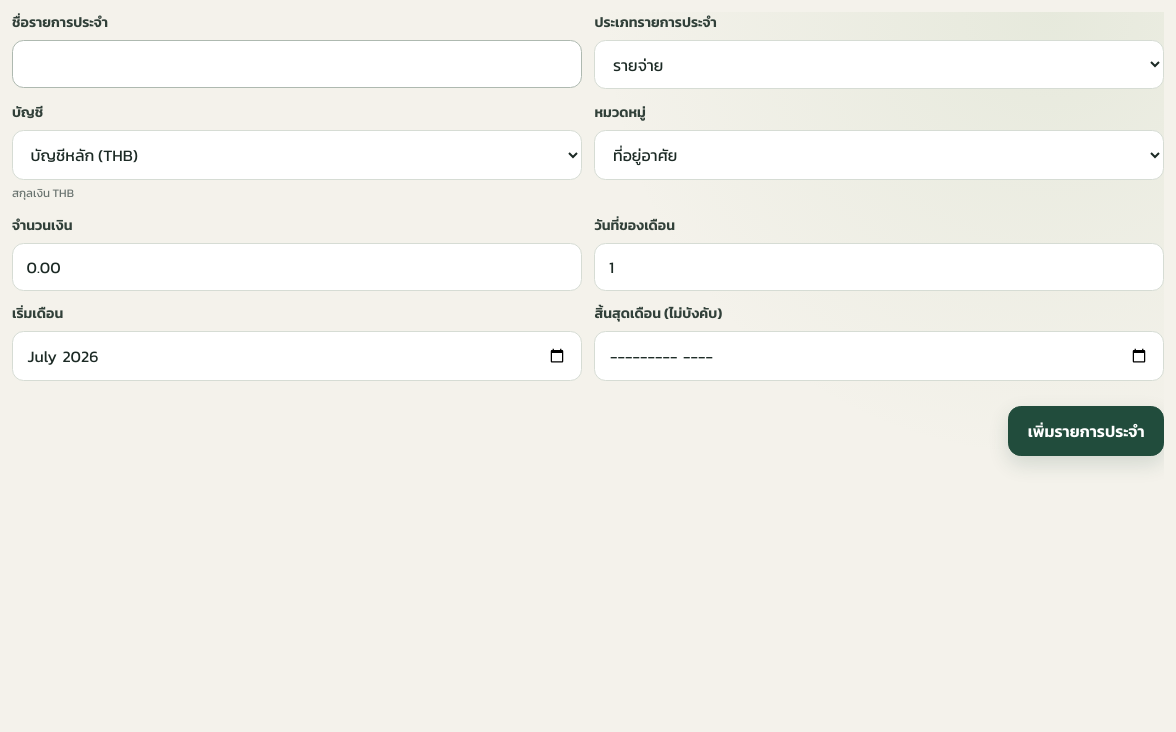
Test: RecurringTemplateForm › renders a Thai API error and keeps the form available
Type "ค่าเช่า" into the field labelled "ชื่อรายการประจำ" at (297, 64), box x1=12 y1=40 x2=582 y2=88
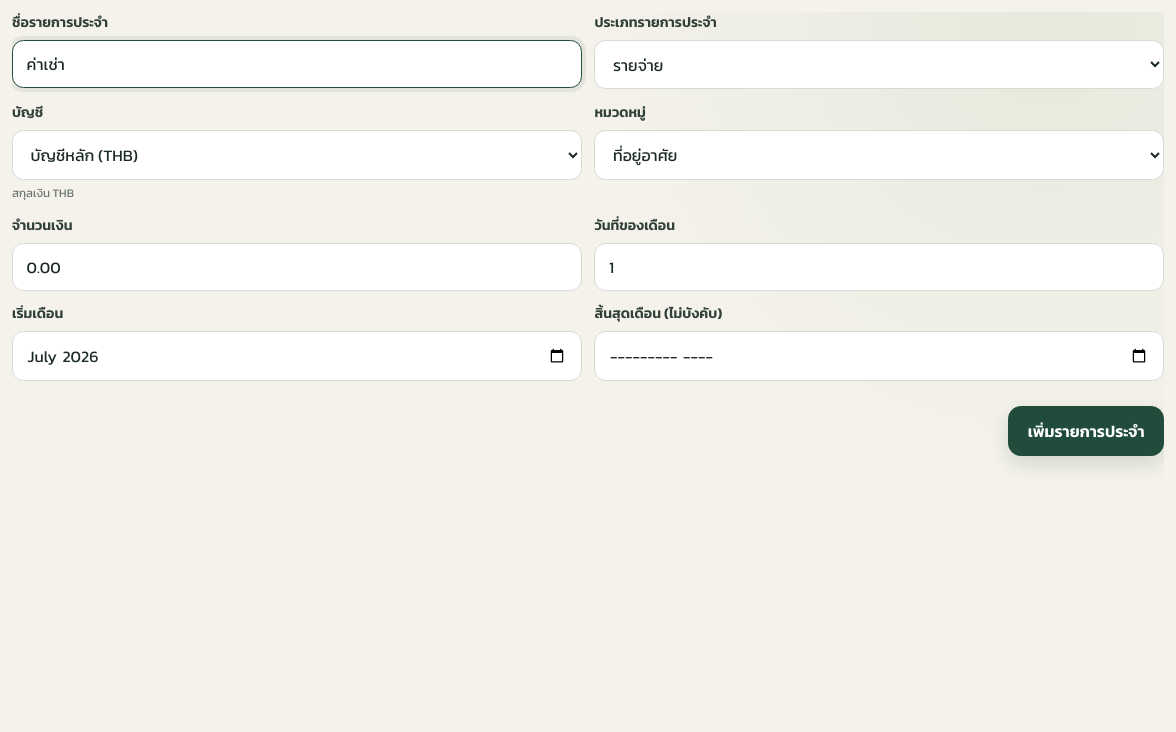
Replace the text in the field labelled "จำนวนเงิน" with "8000" at (297, 266), box x1=12 y1=242 x2=582 y2=290
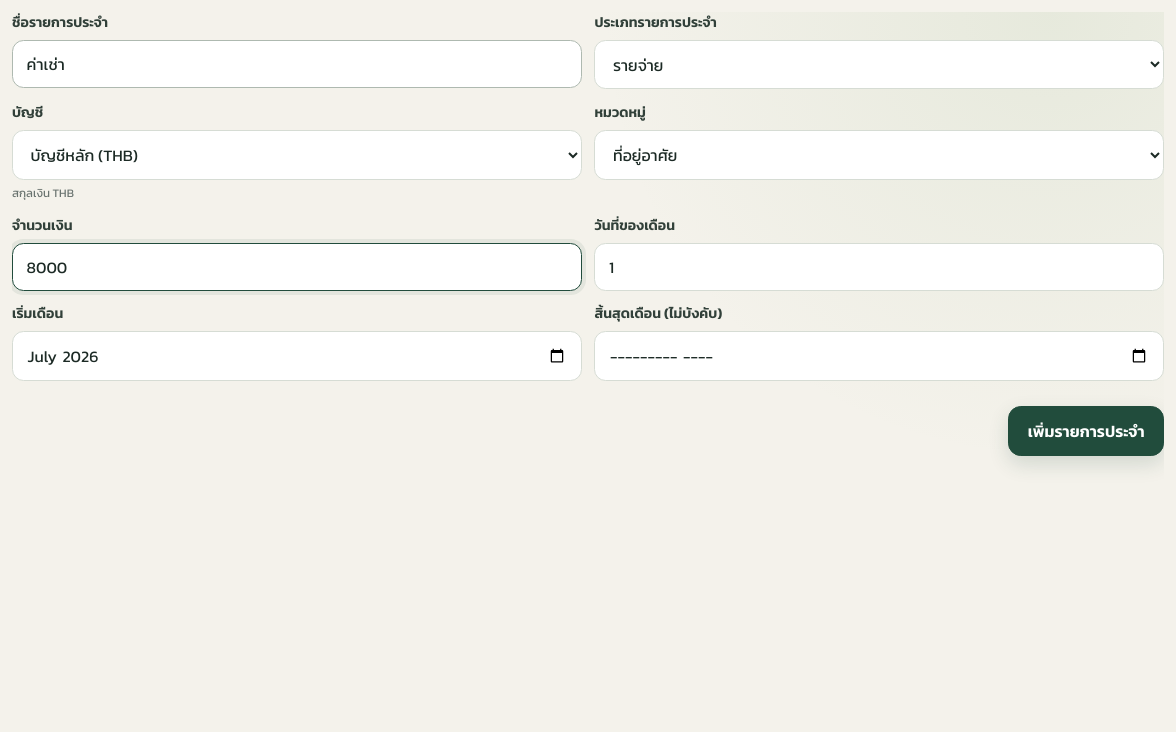
Click the button "เพิ่มรายการประจำ" at (1086, 431), box x1=1008 y1=406 x2=1164 y2=456
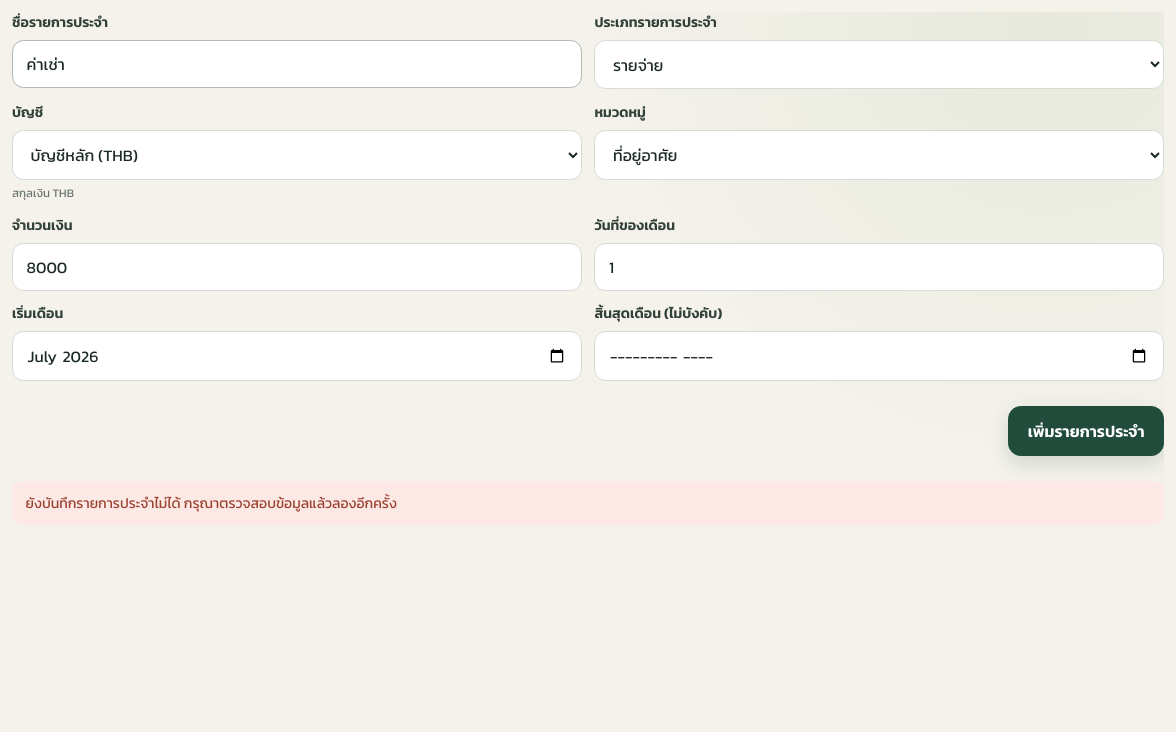
Result: the message shows "ยังบันทึกรายการประจำไม่ได้" at x1=26 y1=493 x2=397 y2=514
